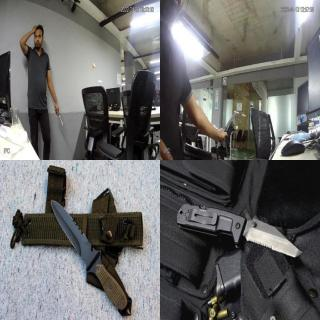knife: (49, 197, 99, 272), (240, 214, 308, 260), (223, 112, 237, 130), (55, 110, 64, 126)
